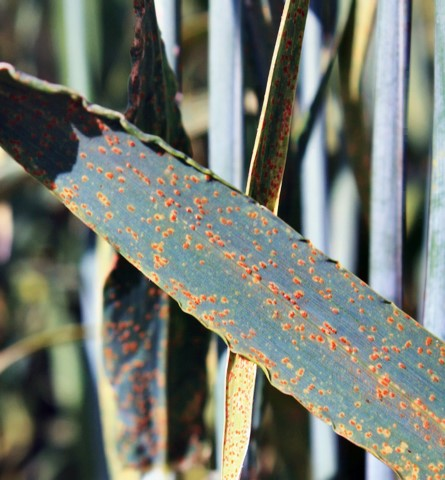Leaf Rust: (64, 125, 445, 454)
